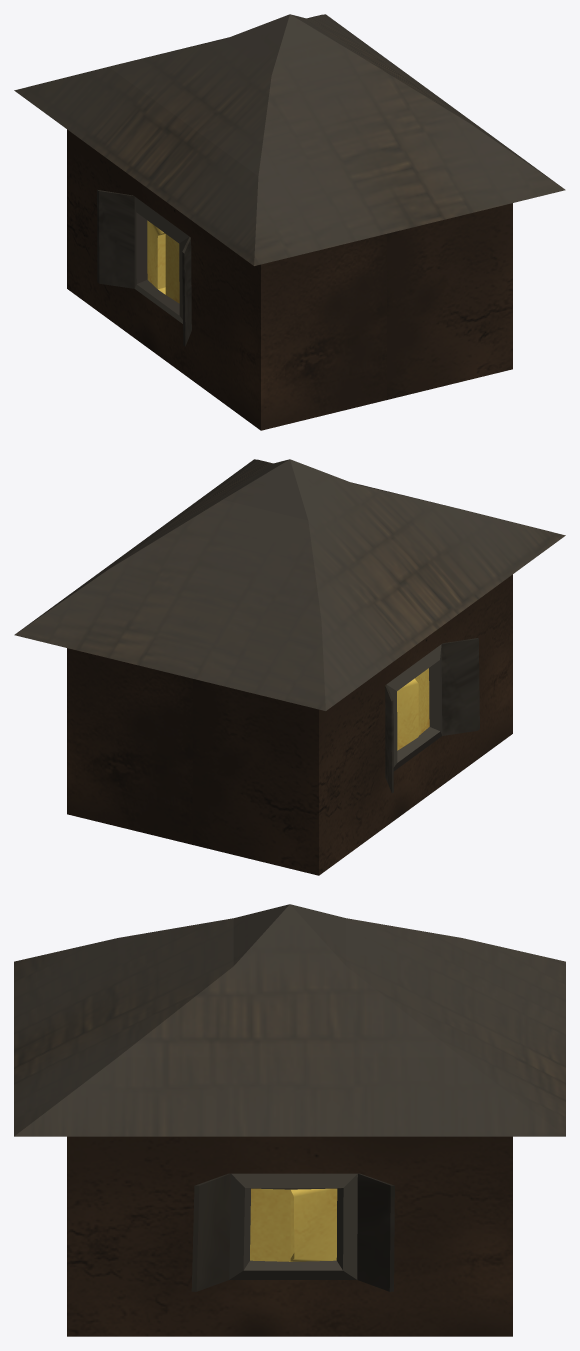
Rendered from House.fbx.
3 renders of one model, top to bottom at view 1: azimuth 30°, elevation 25°; view 2: azimuth 150°, elevation 25°; view 3: azimuth 270°, elevation 25°, orthographic. The views are drawn at different scales.
Parts seen in each view (by area): view 1: House; view 2: House; view 3: House.
Boxes of the visible parts, x1=… form: House: x1=14, y1=14, x2=565, y2=430; House: x1=14, y1=459, x2=565, y2=875; House: x1=14, y1=904, x2=565, y2=1336.
Size of the model in its own units: 14.86 by 14.34 by 19.81.
